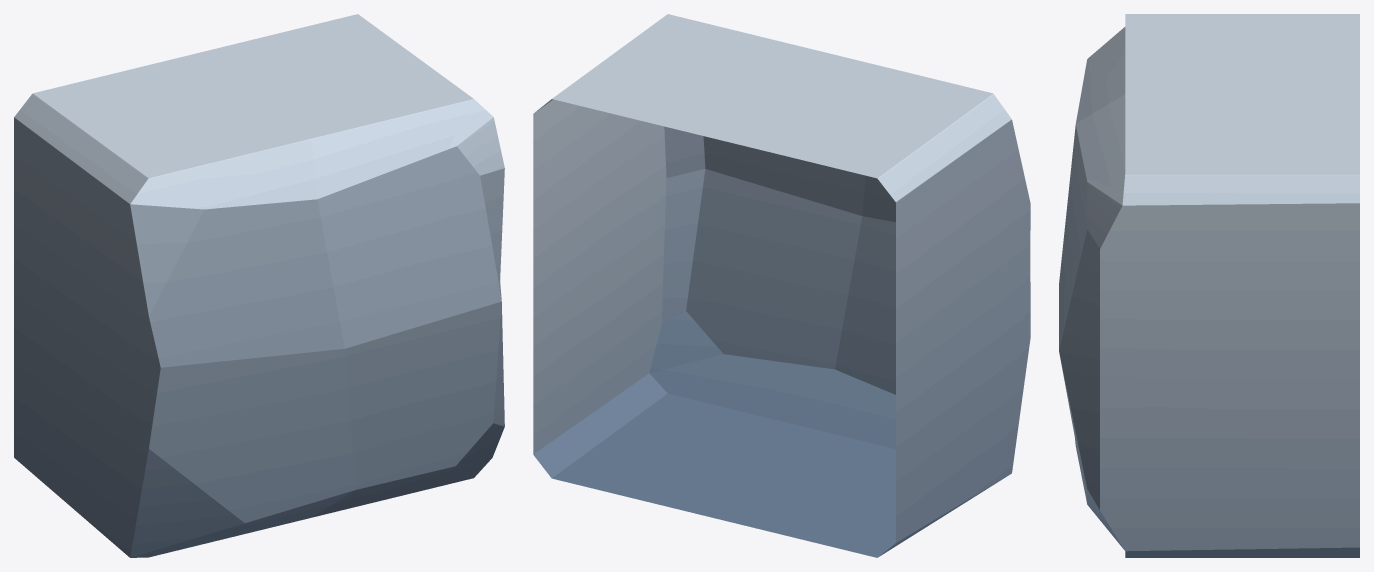
Rendered from SmallBrick.fbx.
The picture shows the model from 3 angles, left to right: view 1: azimuth 30°, elevation 25°; view 2: azimuth 150°, elevation 25°; view 3: azimuth 270°, elevation 25°; orthographic projection.
Parts seen in each view (by area): view 1: smallbrick_adjusted; view 2: smallbrick_adjusted; view 3: smallbrick_adjusted.
Part boxes in pixels (<box>): smallbrick_adjusted: <box>14,14,504,557</box>; smallbrick_adjusted: <box>533,14,1030,557</box>; smallbrick_adjusted: <box>1059,14,1359,557</box>.
Bounding box in the file's own units: 9.78 × 9.78 × 6.95.
